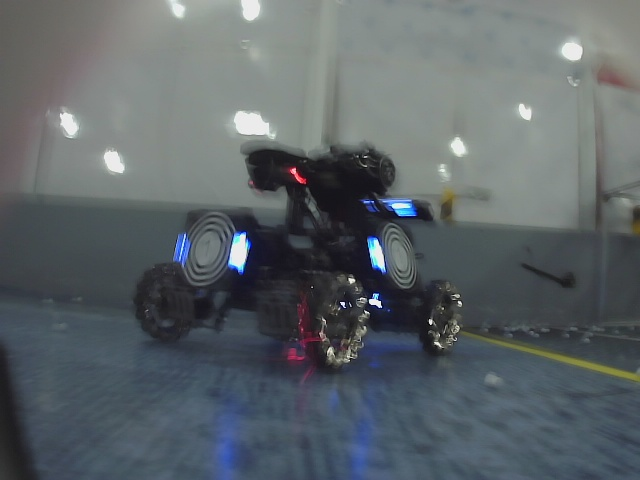lamp: (229, 233, 250, 272), (367, 238, 387, 272)
pair: (178, 233, 247, 271)
